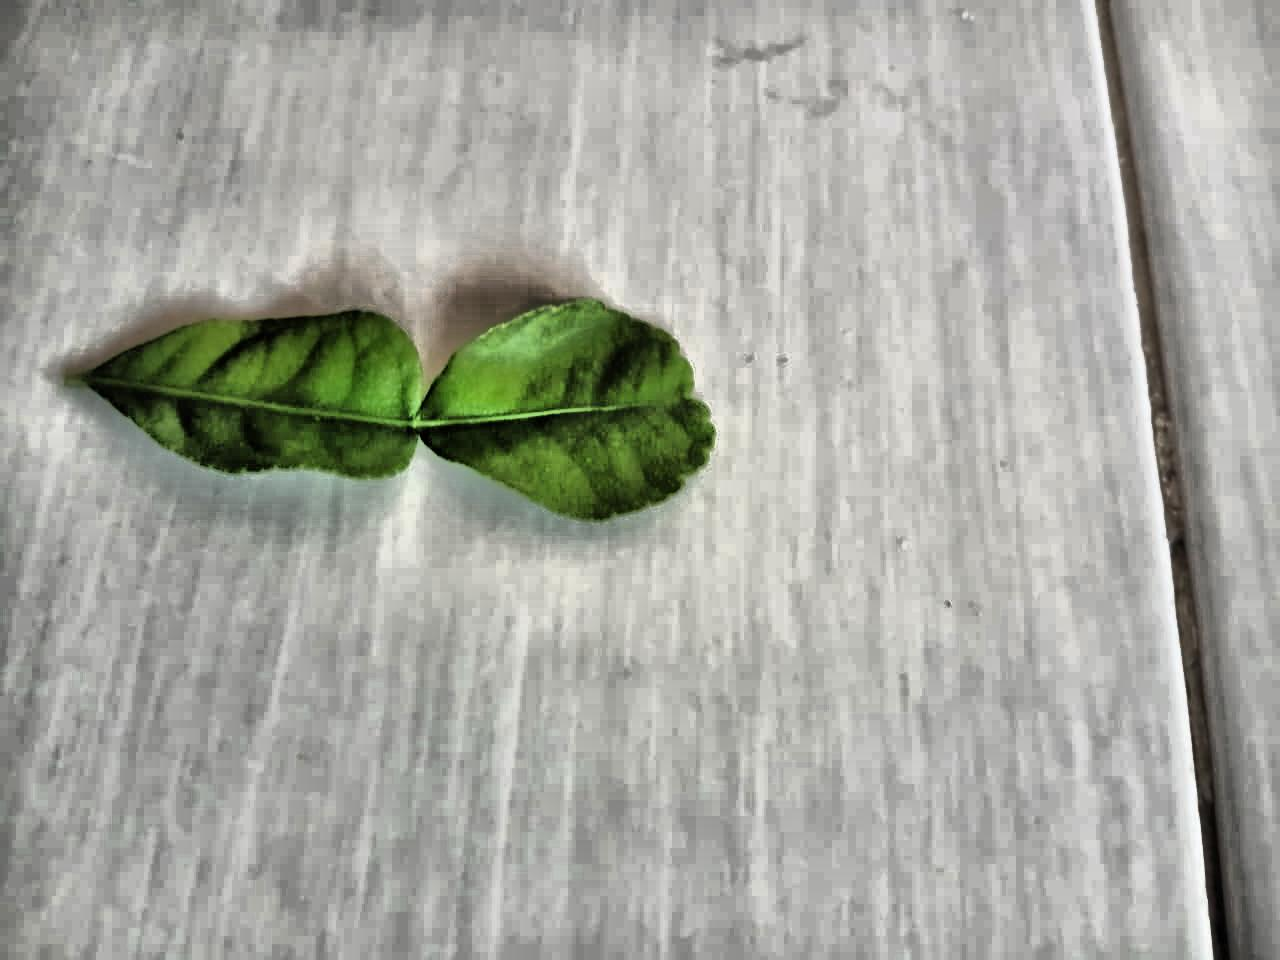daun jeruk: (68, 301, 714, 521)
